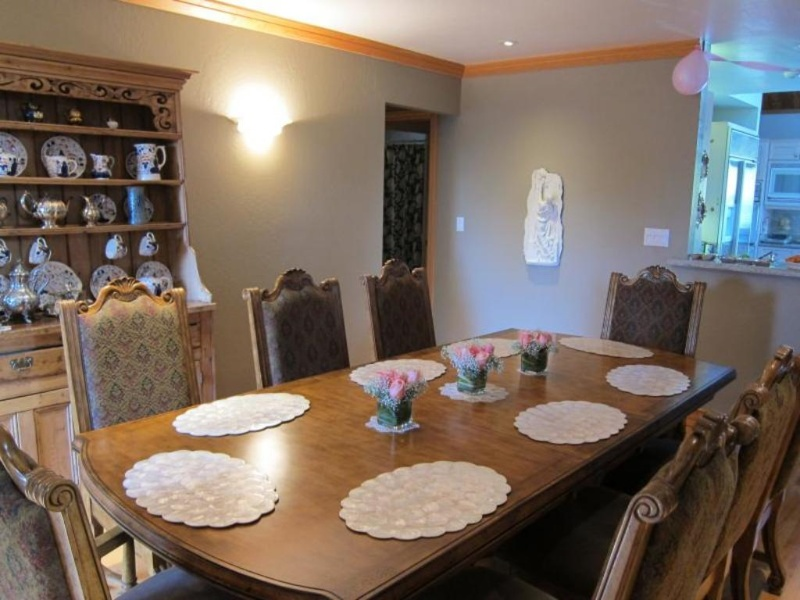dining table: (47, 312, 790, 598)
